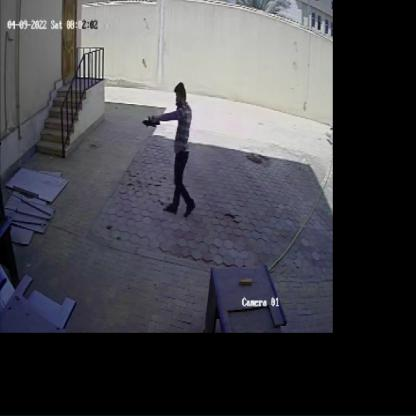handgun: (138, 114, 164, 130)
